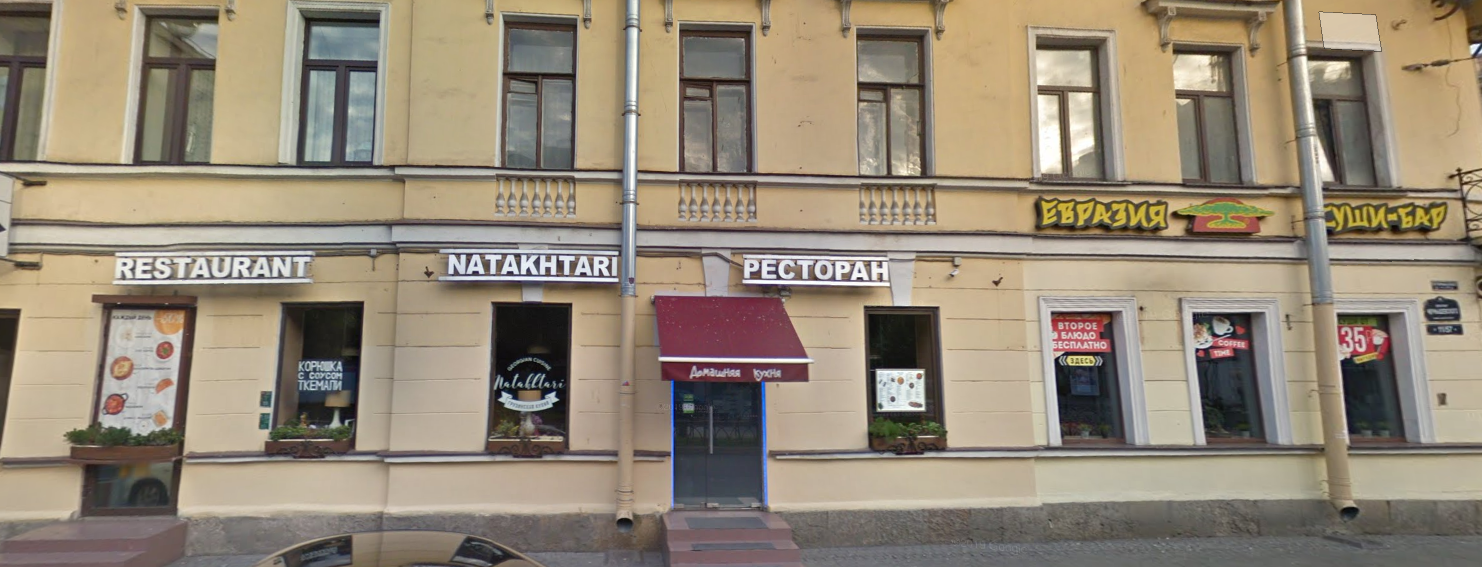door: (676, 383, 760, 508)
signboard: (1036, 196, 1281, 240), (431, 245, 625, 292), (110, 245, 317, 287), (1323, 199, 1452, 242), (742, 255, 887, 286)
window: (296, 13, 384, 167), (134, 10, 222, 161), (1301, 47, 1383, 188), (499, 18, 574, 165), (280, 300, 361, 423), (680, 29, 746, 178), (492, 304, 566, 433), (1053, 308, 1122, 445), (1338, 317, 1413, 441), (859, 35, 925, 175), (1195, 313, 1262, 444), (1169, 50, 1232, 178), (867, 308, 936, 424), (1043, 48, 1099, 178)
